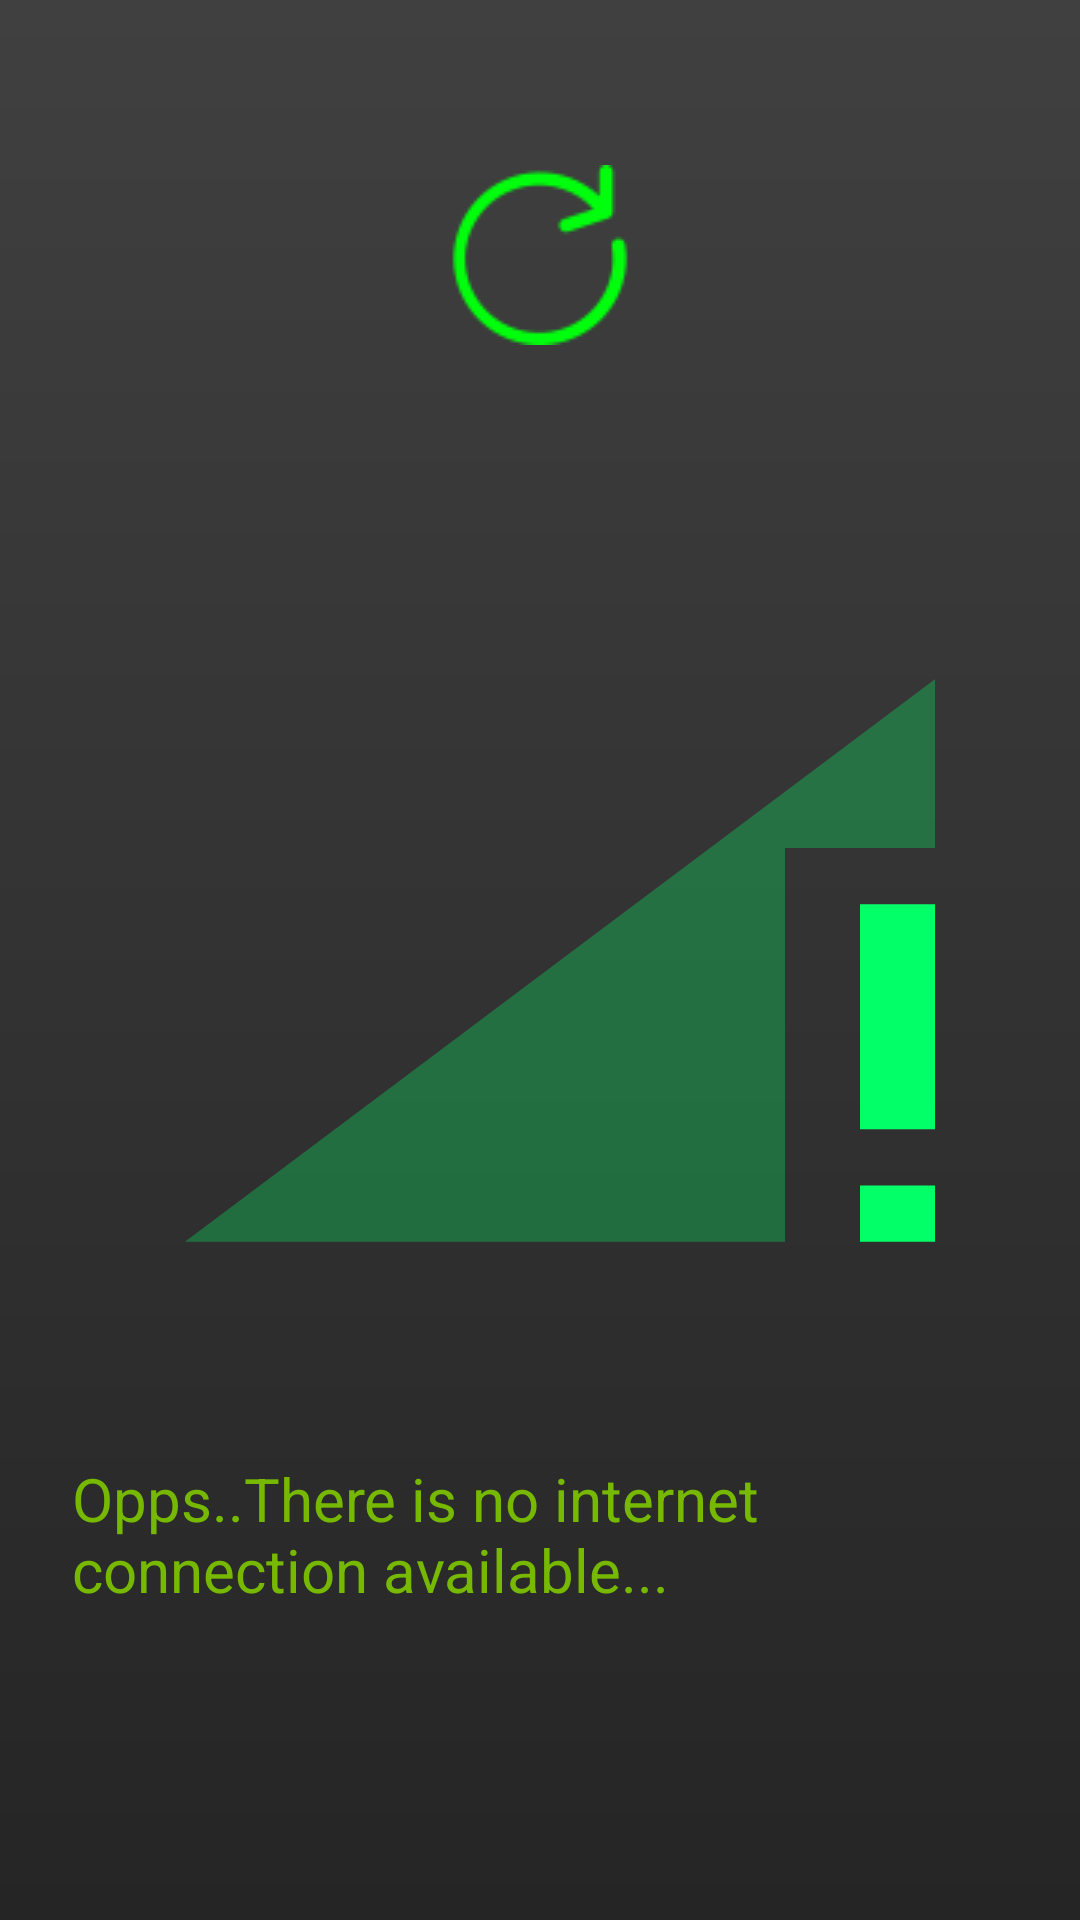

Locate icon controls on the screen. Image size 1080px×1920px, boxes as (x1, y1, x2, y2).
refresh: (452, 165, 628, 345)
